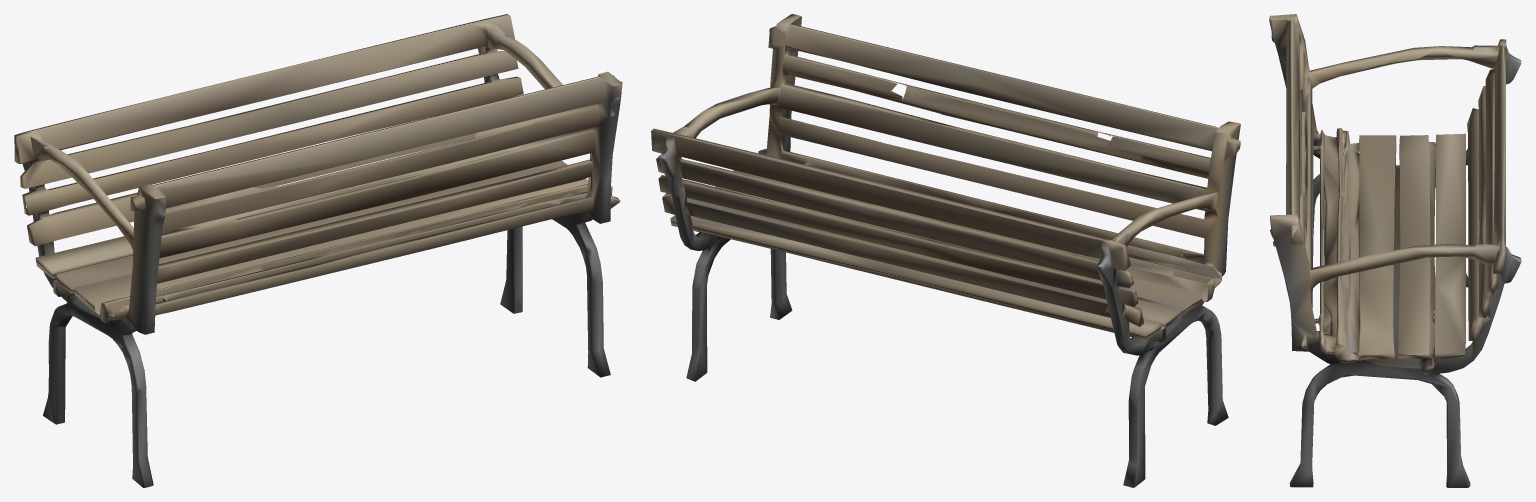
File: bench_near.glb
The picture shows the model from 3 angles, left to right: view 1: azimuth 30°, elevation 25°; view 2: azimuth 150°, elevation 25°; view 3: azimuth 270°, elevation 25°; orthographic projection. The views are drawn at different scales.
Visible parts, largest first — view 1: bench; view 2: bench; view 3: bench.
Boxes of the visible parts, x1,y1,x2,y2 form: bench: [14, 14, 622, 487]; bench: [651, 14, 1240, 487]; bench: [1269, 14, 1521, 487].
Bounding box in the file's own units: 1.73 × 1 × 0.8478.
